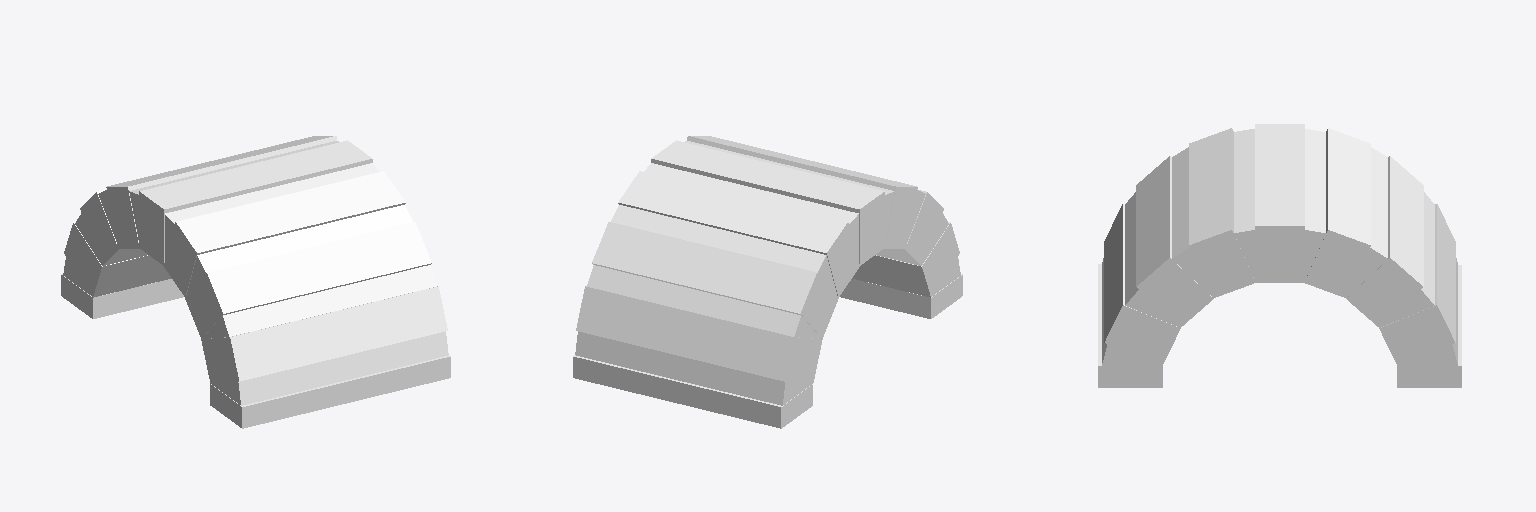
Rendered from mt_arch_single.obj.
3 renders of one model, left to right at view 1: azimuth 30°, elevation 25°; view 2: azimuth 150°, elevation 25°; view 3: azimuth 270°, elevation 25°, orthographic.
Parts seen in each view (by area): view 1: cube.016, cube.017, cube.015, cube.010, cube.009, cube.014, cube.013, cube.011, cube.006, cube.005, cube.008, cube.004 (+3 smaller); view 2: cube.007, cube.008, cube.006, cube.004, cube.003, cube.002, cube.001, cube.005, cube.015, cube.011, cube.017, cube.010 (+3 smaller); view 3: cube.006, cube.015, cube.007, cube.016, cube.008, cube.017, cube.005, cube.011, cube.012, cube.000, cube.001, cube.013 (+6 smaller).
Part boxes in pixels (x1,y1,x2,y2): cube.016: (185,222,431,338); cube.017: (201,286,447,383); cube.015: (164,171,405,296); cube.010: (210,355,450,428); cube.009: (212,331,448,405); cube.014: (203,265,436,338); cube.013: (186,205,412,295); cube.011: (152,150,372,265); cube.006: (106,136,336,248); cube.005: (139,140,359,256); cube.008: (64,222,171,297); cube.004: (61,274,183,318); cube.007: (592,222,838,338); cube.008: (576,286,822,383); cube.006: (618,171,859,296); cube.004: (573,355,812,428); cube.003: (575,331,811,405); cube.002: (587,265,820,338); cube.001: (611,205,836,294); cube.005: (651,150,871,265); cube.015: (687,136,917,248); cube.011: (664,140,884,256); cube.017: (852,222,959,297); cube.010: (840,274,962,318); cube.006: (1304,128,1370,298); cube.015: (1189,128,1255,298); cube.007: (1347,156,1423,327); cube.016: (1136,156,1212,327); cube.008: (1379,204,1455,365); cube.017: (1104,204,1180,365); cube.005: (1280,124,1304,282); cube.011: (1255,124,1279,282); cube.012: (1234,129,1254,279); cube.000: (1305,129,1325,279); cube.001: (1349,147,1387,295); cube.013: (1172,147,1210,294).
Size of the model in its own units: 1.01 by 0.75 by 1.52.